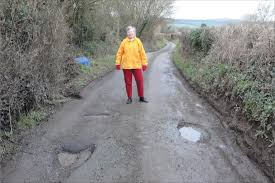pothole: (45, 140, 105, 171), (173, 120, 210, 151)
